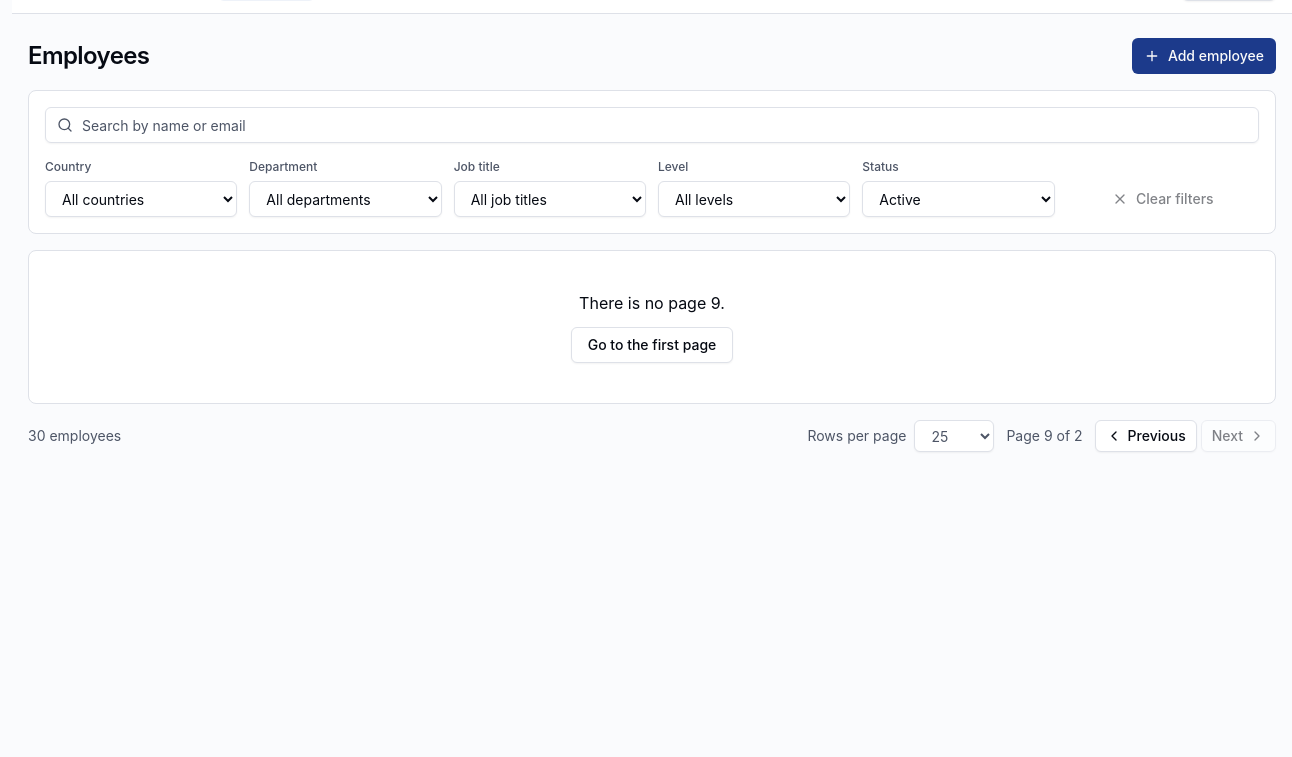
Test case: employee directory › rows › offers the first page when the address points past the last page
Click the button "Go to the first page": (652, 345) [571,327,733,363]
(page scrolled)
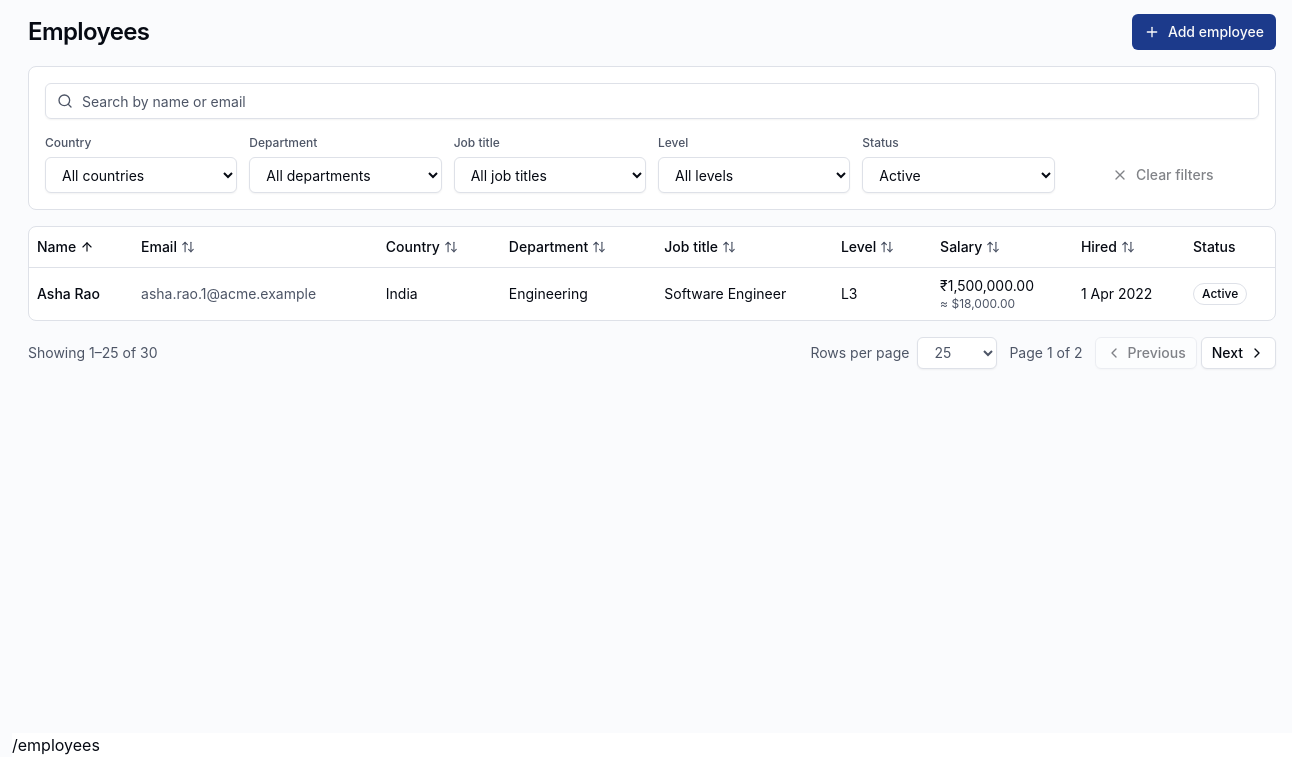
Expected: the link "Asha Rao" is shown, [37,284,100,302]
Expected: the text with test id "location" reads "/employees", [12,735,100,755]
